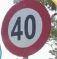Gioi han toc do: (1, 0, 51, 57)
